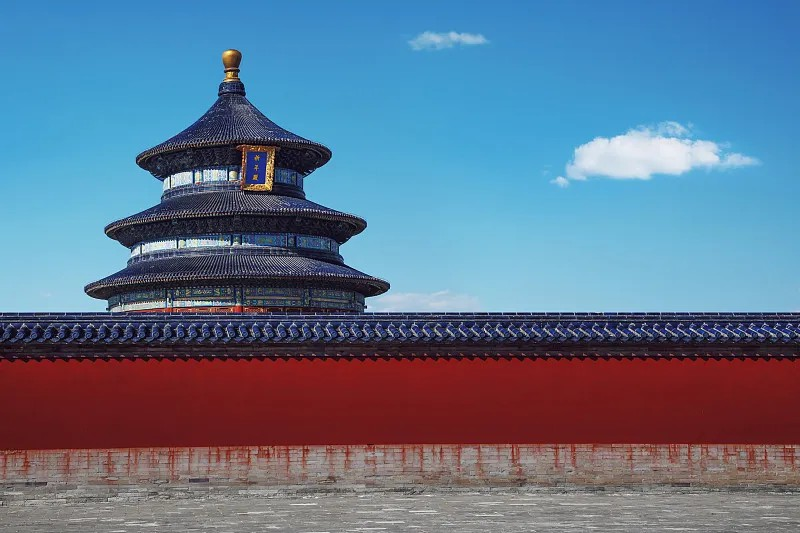Heaven: (84, 49, 392, 313)
